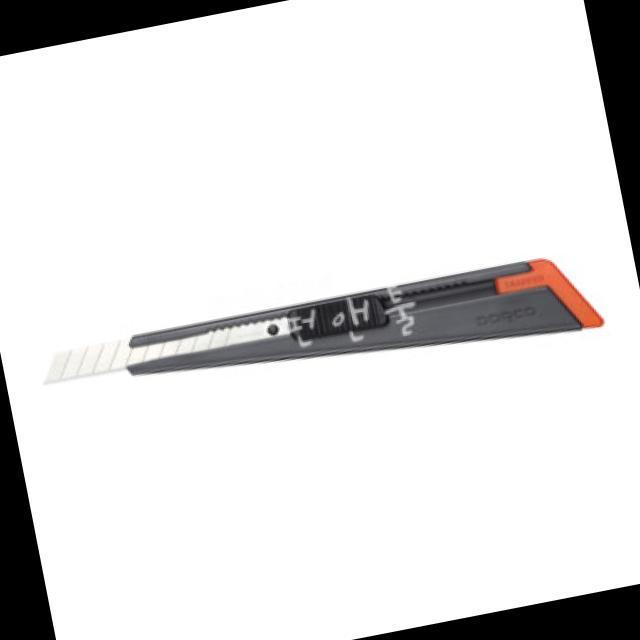cutter: (17, 210, 620, 457)
